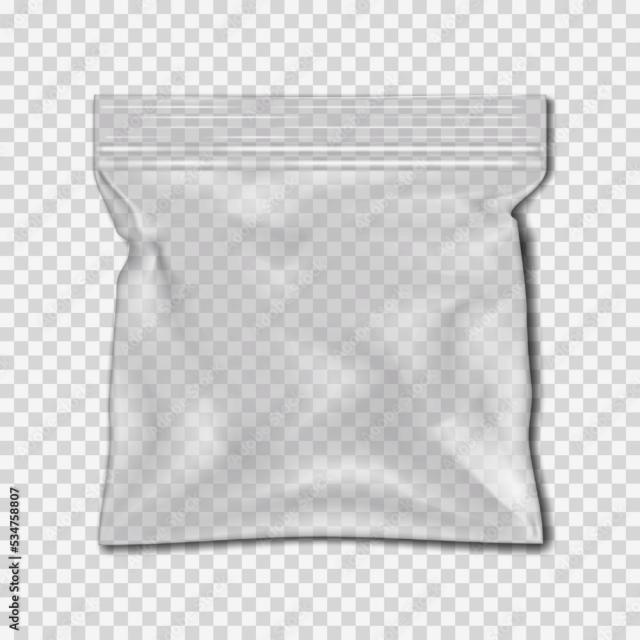Bolsa-de-plastico: (90, 92, 551, 549)
